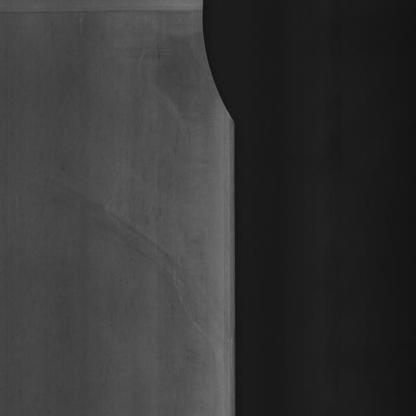crescent_gap: (193, 0, 263, 143)
welding_line: (0, 0, 213, 25)
